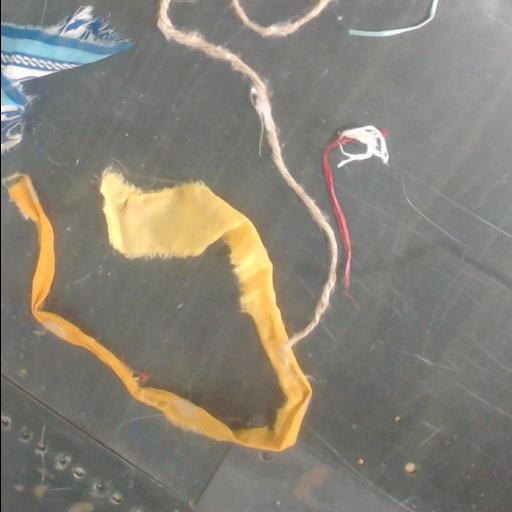cloth: (33, 170, 311, 451), (1, 6, 130, 151), (9, 177, 53, 300), (242, 0, 315, 24)
conveyor belt: (1, 0, 512, 511), (1, 0, 327, 427)
jute: (157, 0, 337, 343), (231, 0, 330, 36)
thread: (322, 125, 388, 292), (348, 0, 438, 36)
